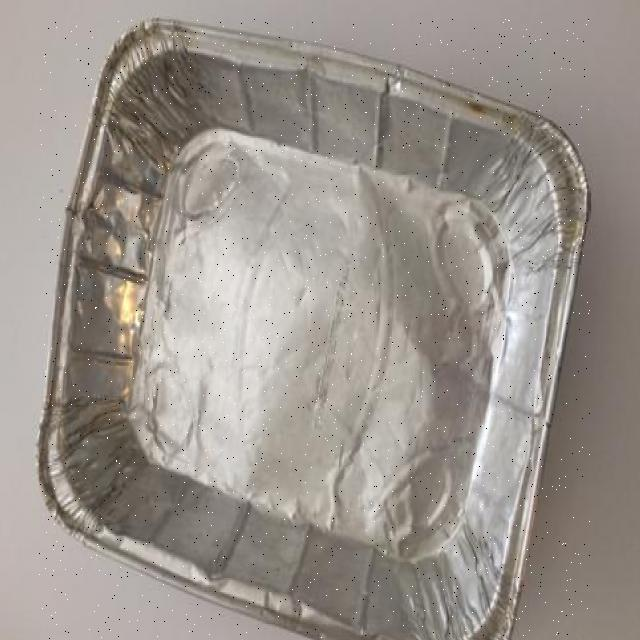metal: (40, 20, 590, 640)
